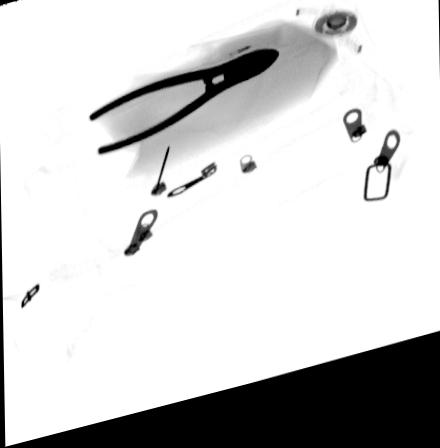Pliers: (87, 62, 279, 160)
